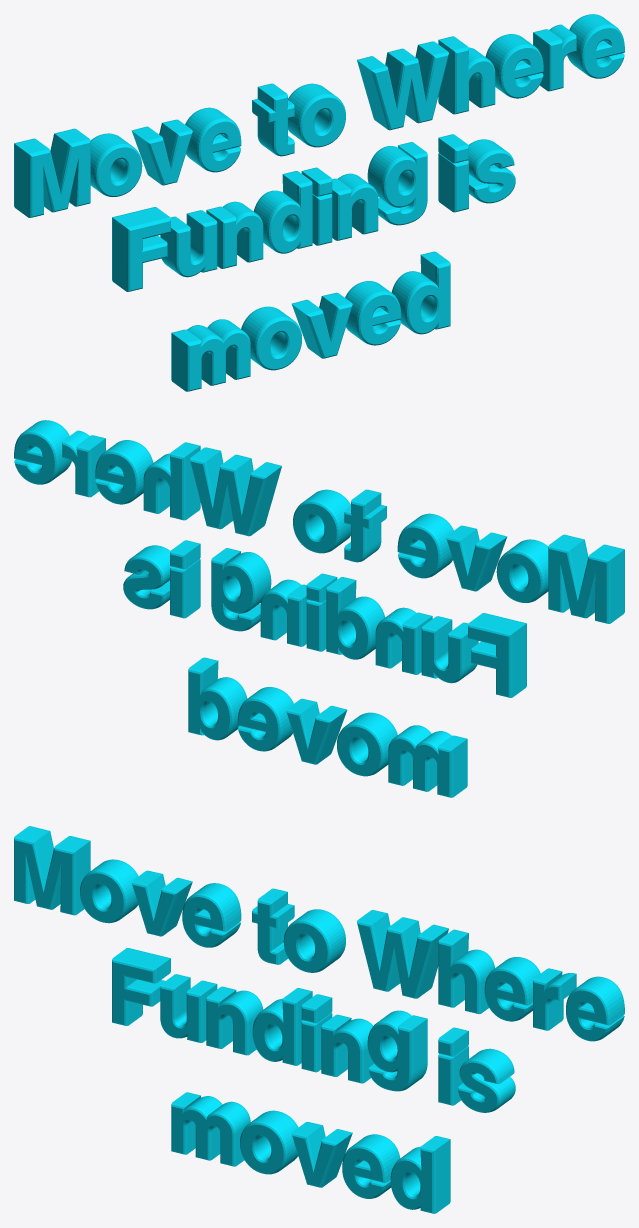
Rendered from funding_text.glb.
3 views of the same model, one above another, from view 1: azimuth 30°, elevation 25°; view 2: azimuth 150°, elevation 25°; view 3: azimuth 330°, elevation 25° (orthographic).
Visible parts, largest first — view 1: letter_0_M, letter_6_W, letter_20_m, letter_17_g, letter_11_F, letter_24_d, letter_14_d, letter_7_h, letter_12_u, letter_5_o, letter_21_o, letter_3_e (+13 smaller); view 2: letter_0_M, letter_6_W, letter_20_m, letter_17_g, letter_11_F, letter_24_d, letter_14_d, letter_7_h, letter_12_u, letter_5_o, letter_21_o, letter_3_e (+13 smaller); view 3: letter_6_W, letter_0_M, letter_20_m, letter_17_g, letter_24_d, letter_7_h, letter_11_F, letter_5_o, letter_14_d, letter_13_n, letter_3_e, letter_10_e (+13 smaller).
Boxes of the visible parts, x1,y1,x2,y2 form: letter_0_M: [14, 128, 90, 217]; letter_6_W: [357, 41, 448, 130]; letter_20_m: [171, 319, 250, 391]; letter_17_g: [367, 142, 427, 225]; letter_11_F: [112, 207, 170, 291]; letter_24_d: [391, 251, 450, 334]; letter_14_d: [253, 171, 312, 253]; letter_7_h: [438, 36, 495, 114]; letter_12_u: [160, 210, 217, 277]; letter_5_o: [288, 83, 345, 147]; letter_21_o: [241, 306, 301, 370]; letter_3_e: [185, 107, 241, 172]; letter_0_M: [548, 534, 624, 623]; letter_6_W: [190, 447, 281, 536]; letter_20_m: [388, 725, 467, 797]; letter_17_g: [211, 548, 271, 631]; letter_11_F: [468, 613, 526, 697]; letter_24_d: [188, 657, 247, 740]; letter_14_d: [326, 577, 385, 659]; letter_7_h: [143, 442, 200, 520]; letter_12_u: [421, 616, 478, 683]; letter_5_o: [293, 489, 350, 553]; letter_21_o: [337, 712, 397, 776]; letter_3_e: [397, 513, 453, 578]; letter_6_W: [357, 910, 448, 998]; letter_0_M: [14, 826, 90, 915]; letter_20_m: [171, 1092, 250, 1166]; letter_17_g: [367, 1010, 427, 1091]; letter_24_d: [390, 1136, 450, 1213]; letter_7_h: [438, 929, 494, 1014]; letter_11_F: [112, 948, 170, 1025]; letter_5_o: [283, 909, 345, 972]; letter_14_d: [252, 988, 312, 1065]; letter_13_n: [206, 986, 263, 1055]; letter_3_e: [182, 883, 241, 947]; letter_10_e: [566, 976, 624, 1041].
Size of the model in its own units: 1.76 by 0.7795 by 0.0899.
